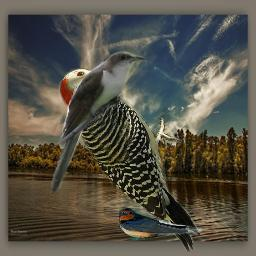Cuckoo: (46, 49, 146, 198)
Swallow: (117, 206, 202, 240)
Woodpecker: (55, 60, 203, 252)
